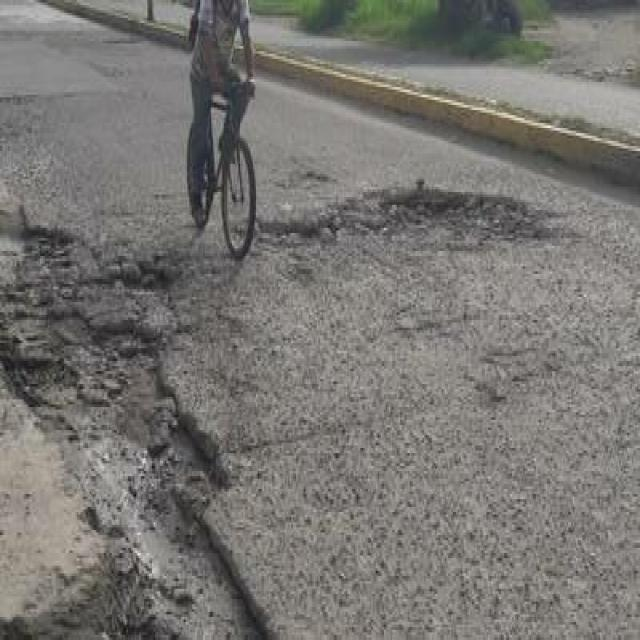Pothole: (2, 197, 274, 640), (285, 172, 574, 325)
